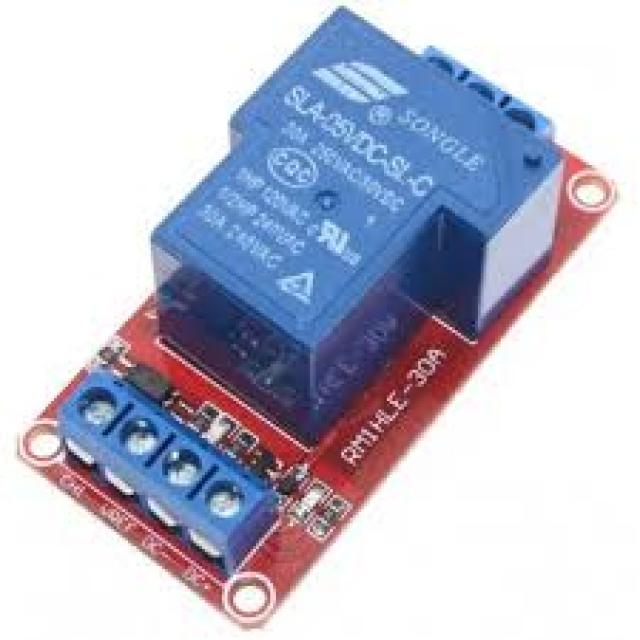Relay: (43, 9, 612, 629)
